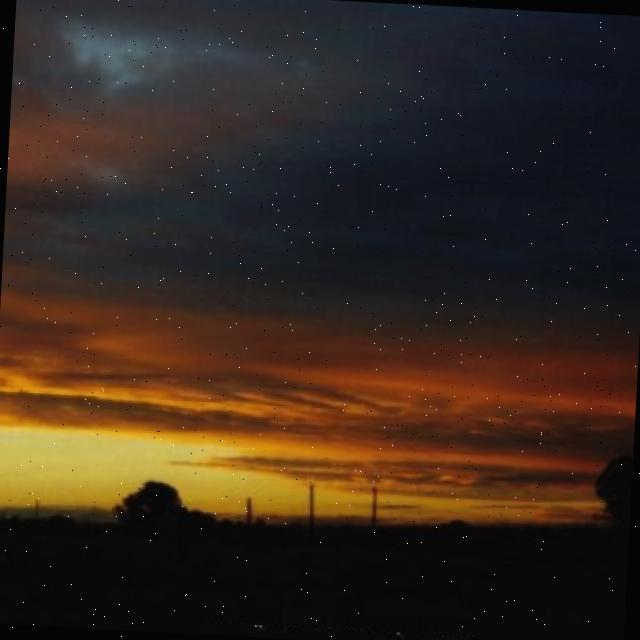As: (1, 47, 640, 474)
